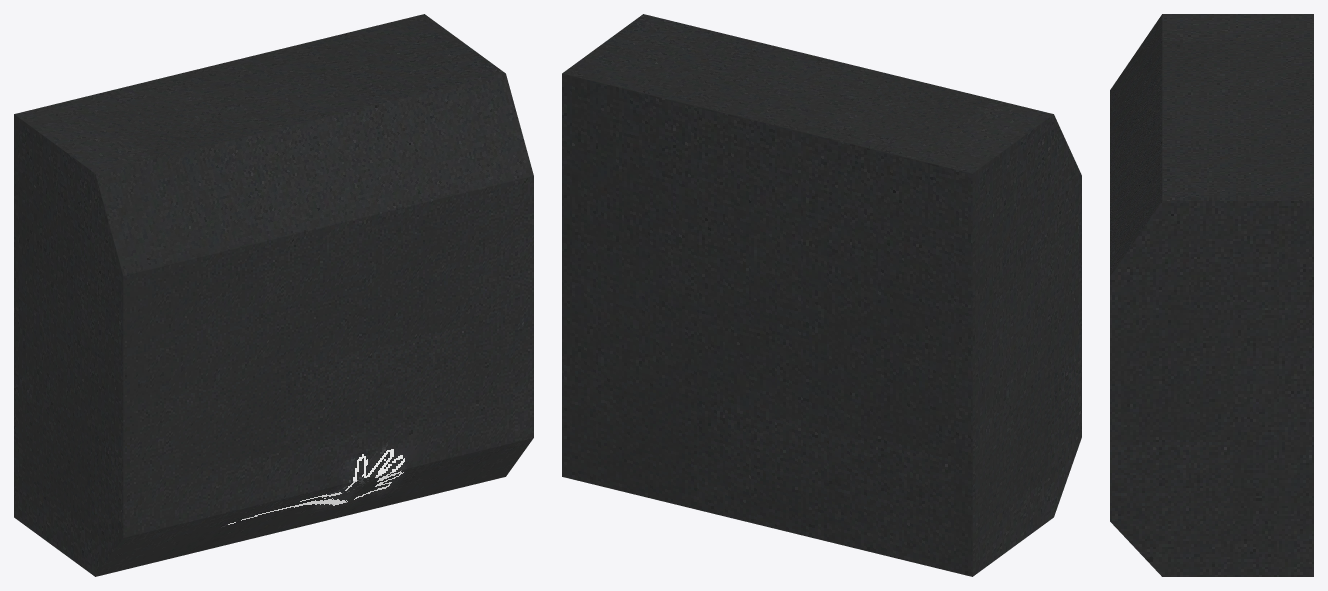
The model's file is paper_towel.glb.
3 renders of one model, left to right at view 1: azimuth 30°, elevation 25°; view 2: azimuth 150°, elevation 25°; view 3: azimuth 270°, elevation 25°, orthographic. The views are drawn at different scales.
Visible parts, largest first — view 1: Cube; view 2: Cube; view 3: Cube.
Boxes of the visible parts, x1,y1,x2,y2 form: Cube: [14, 14, 533, 576]; Cube: [562, 14, 1081, 576]; Cube: [1110, 14, 1313, 576].
Bounding box in the file's own units: 2 × 1.88 × 0.9226.
Materials: 1 (1 with a texture image).
